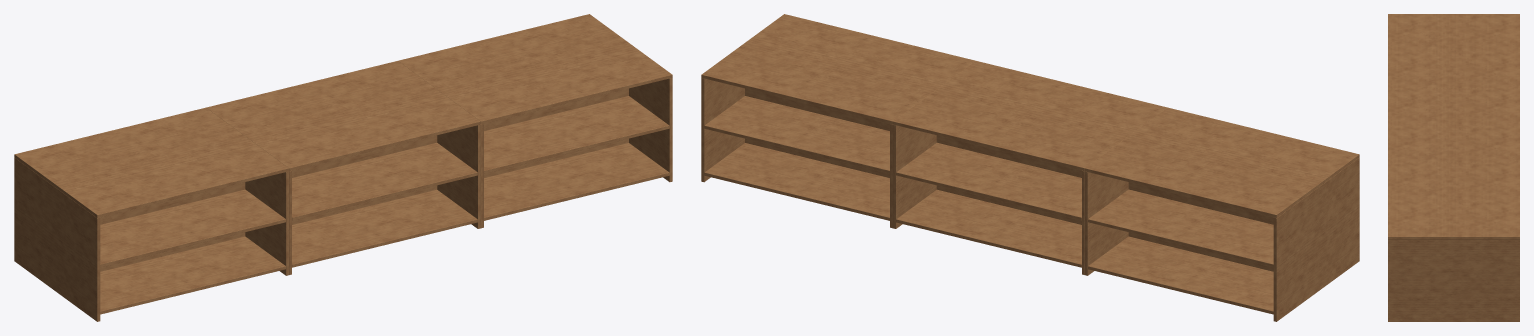
The model's file is ClothTable.fbx.
3 renders of one model, left to right at view 1: azimuth 30°, elevation 25°; view 2: azimuth 150°, elevation 25°; view 3: azimuth 270°, elevation 25°, orthographic. The views are drawn at different scales.
Visible parts, largest first — view 1: ClothTable; view 2: ClothTable; view 3: ClothTable.
Boxes of the visible parts, x1,y1,x2,y2 form: ClothTable: [14, 14, 672, 321]; ClothTable: [701, 14, 1359, 321]; ClothTable: [1388, 14, 1519, 321].
Size of the model in its own units: 366 by 64.98 by 91.43.
